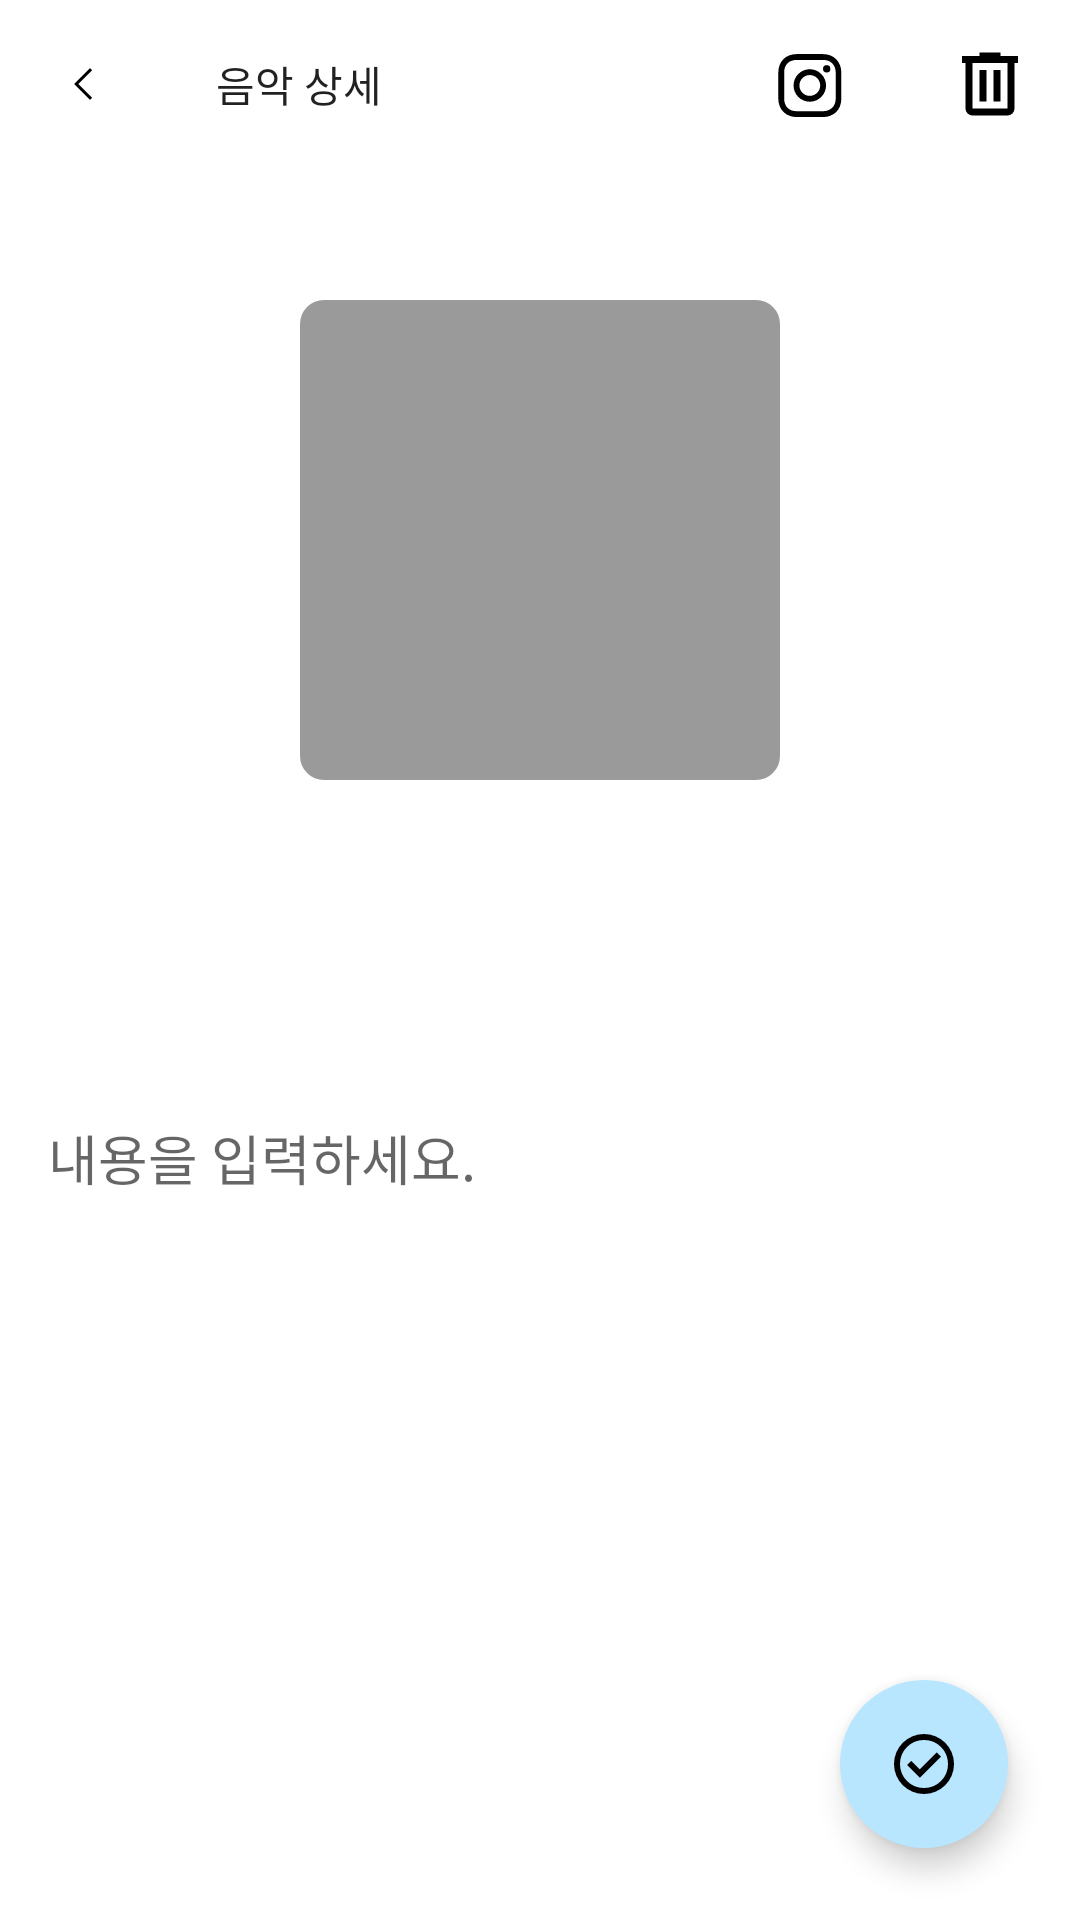

Where icons sit on this 1080*1920 app screen, as (x1, y1, x2, y2):
check: (840, 1680, 1008, 1848)
삭제: (962, 52, 1018, 116)
